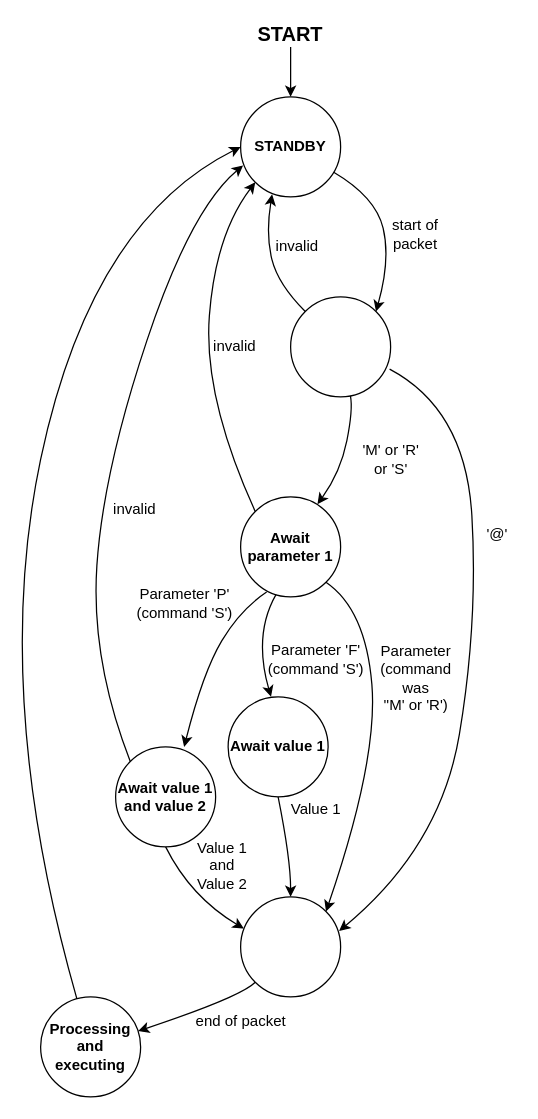
Some shapes in this 538 by 1119 pixel diagram are drawn without their labels. The box of each missing label's shape, as (x1, y1, x2, y2) in pixels:
Await command: (289, 296, 391, 397)
Await end: (239, 896, 341, 997)
